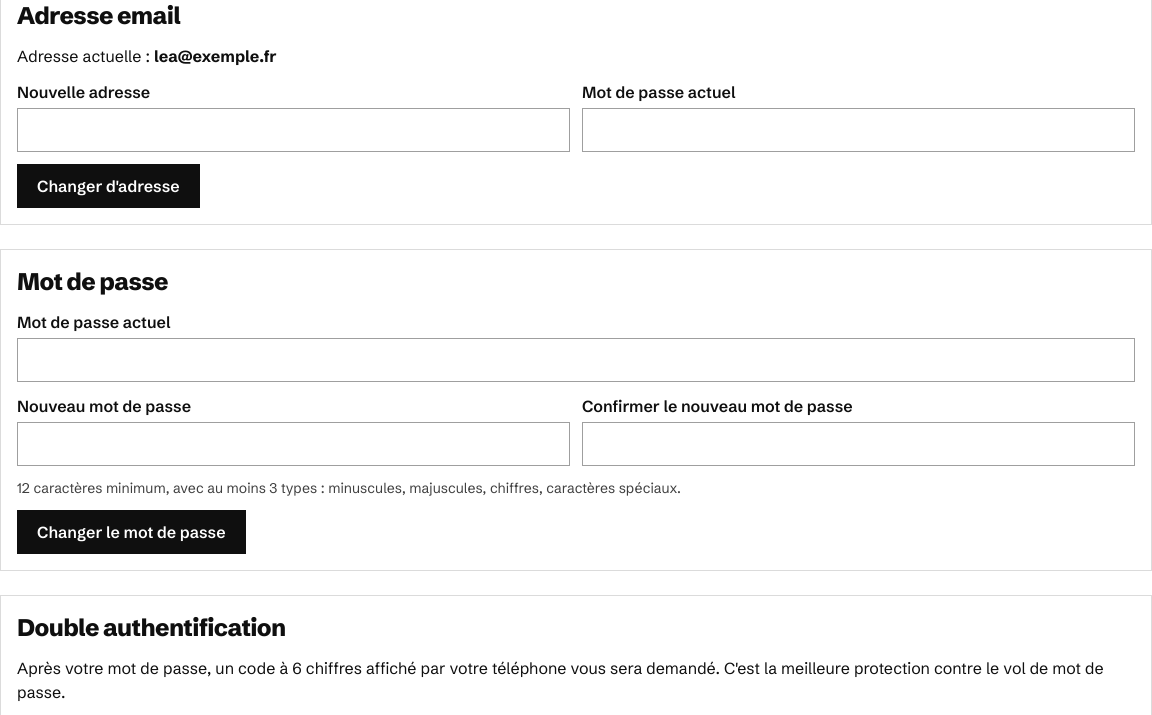
Test case: AccountSettings : mot de passe › refus de l'API : erreur affichée, aucun message de succès
The width and height of the screenshot is (1152, 715).
(page scrolled)
Type "Faux-mot-2026" into the 2nd password field labelled "Mot de passe actuel" at (576, 360), box [17, 338, 1135, 382]
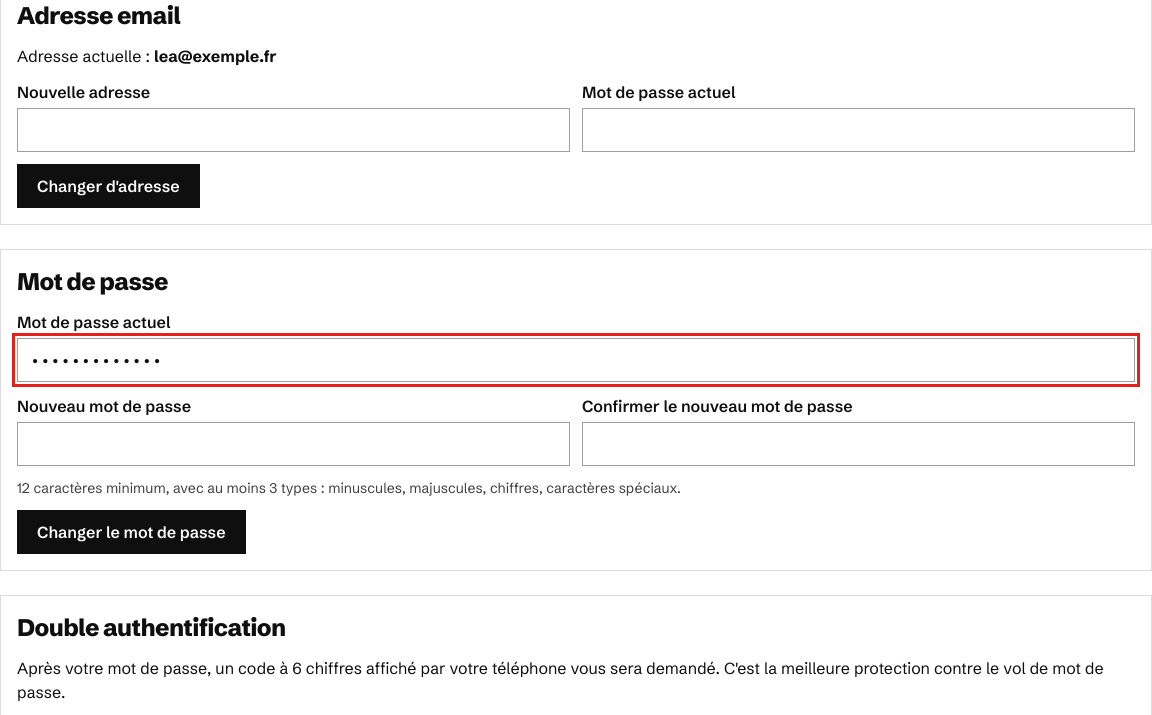
Type "Nouveau-mot-2026" into the password field labelled "Nouveau mot de passe" at (294, 444), box [17, 422, 570, 466]
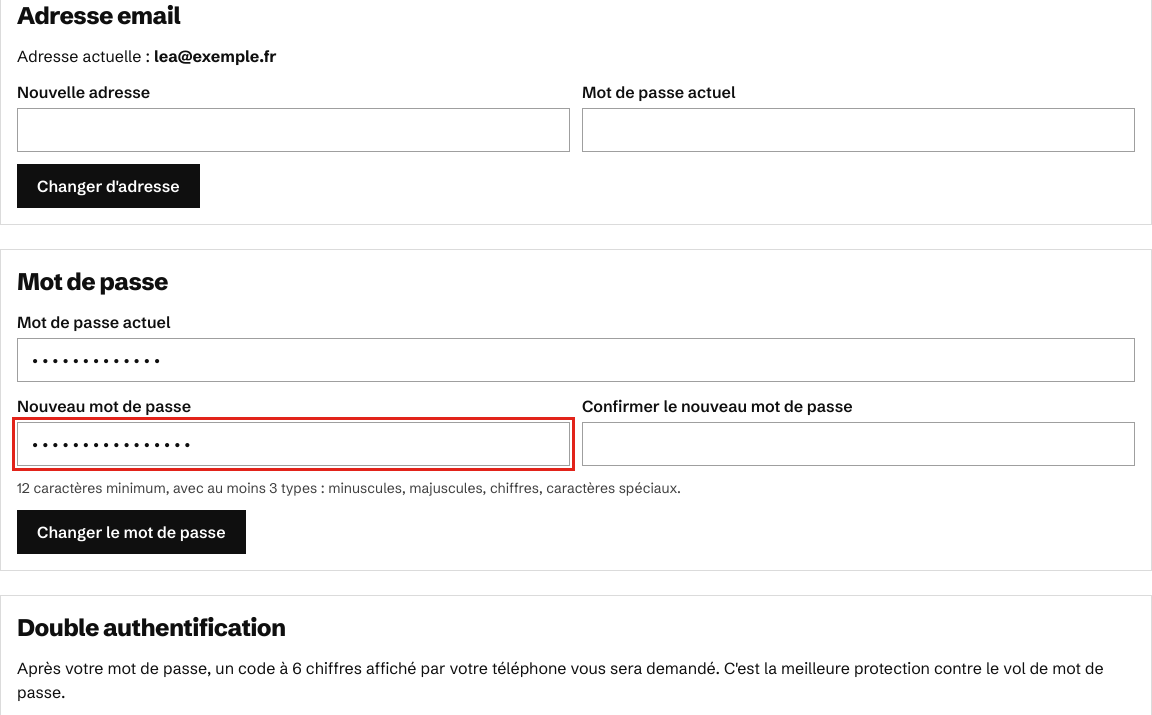
Type "Nouveau-mot-2026" into the password field labelled "Confirmer le nouveau mot de passe" at (858, 444), box [582, 422, 1135, 466]
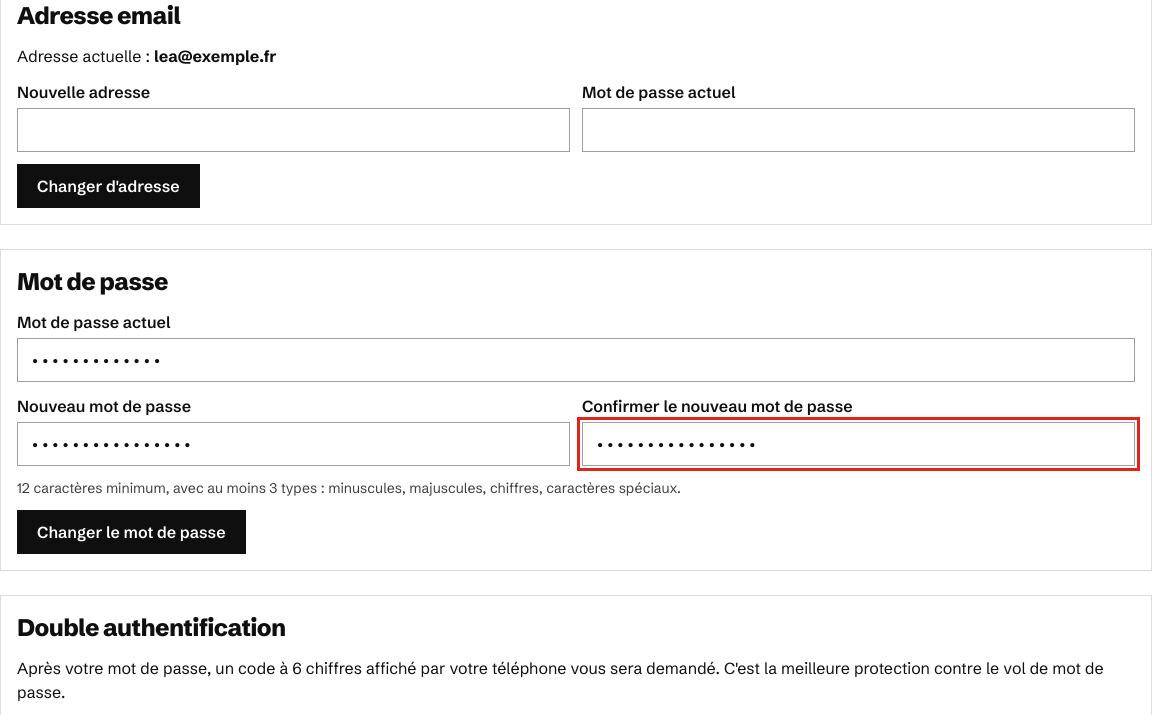
Click the button "Changer le mot de passe" at (131, 532), box [17, 510, 246, 554]
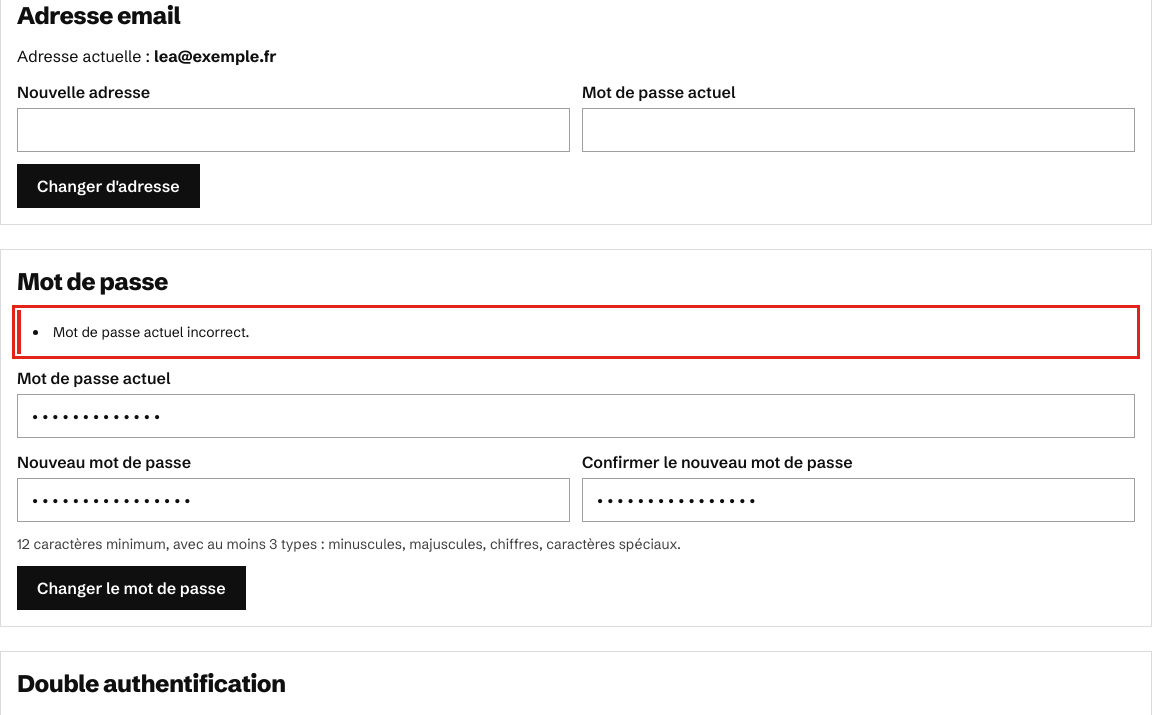
Expected: the message reads "Mot de passe actuel incorrect.", [53, 323, 249, 341]
